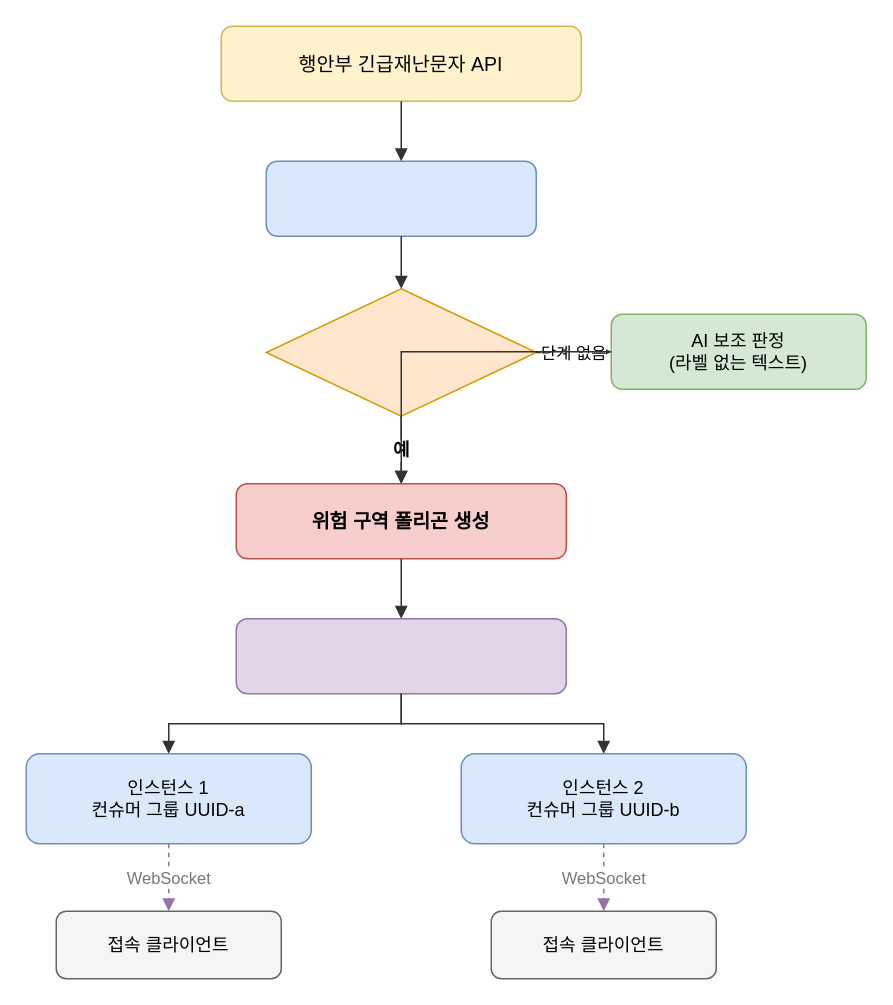
Some shapes in this 893 by 1005 pixel diagram are drawn without their labels. The box of each missing label's shape, as (x1, y1, x2, y2) in pixels:
Kafka · disaster 토픽: (235, 617, 566, 694)
공식 긴급단계 위급 · 긴급?: (265, 287, 536, 416)
수집 스케줄러 1분 간격: (265, 160, 536, 236)
